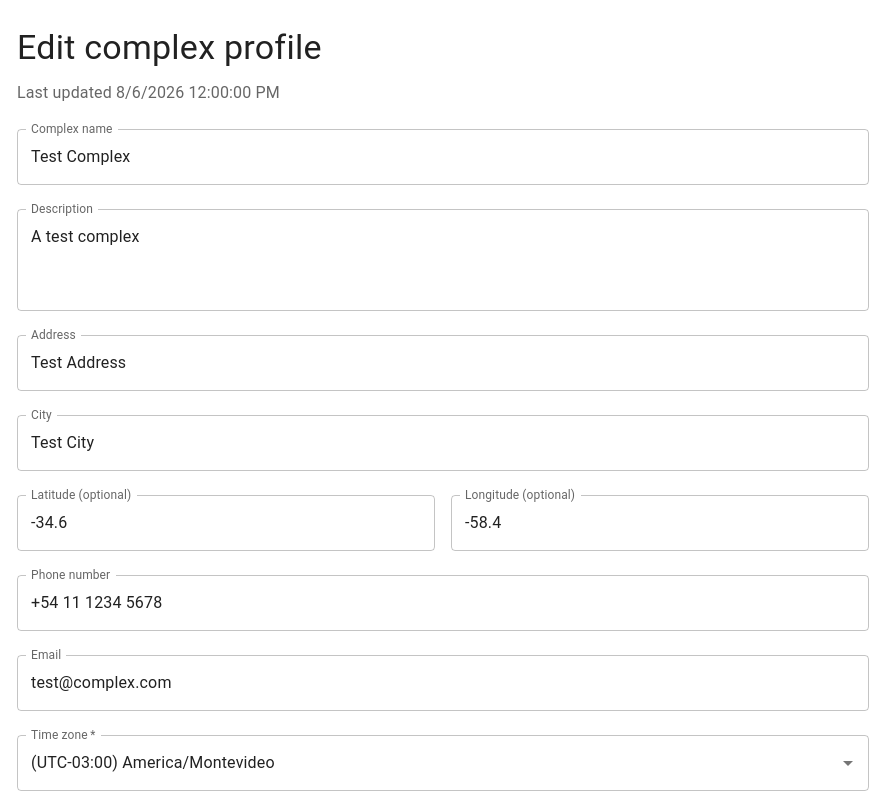
ComplexProfilePage › displays validation errors for invalid fields
Type "12345678" into the field showing "+54 11 1234 5678".
click(443, 603); type("12345678")  # box x1=17 y1=575 x2=869 y2=631
(page scrolled)
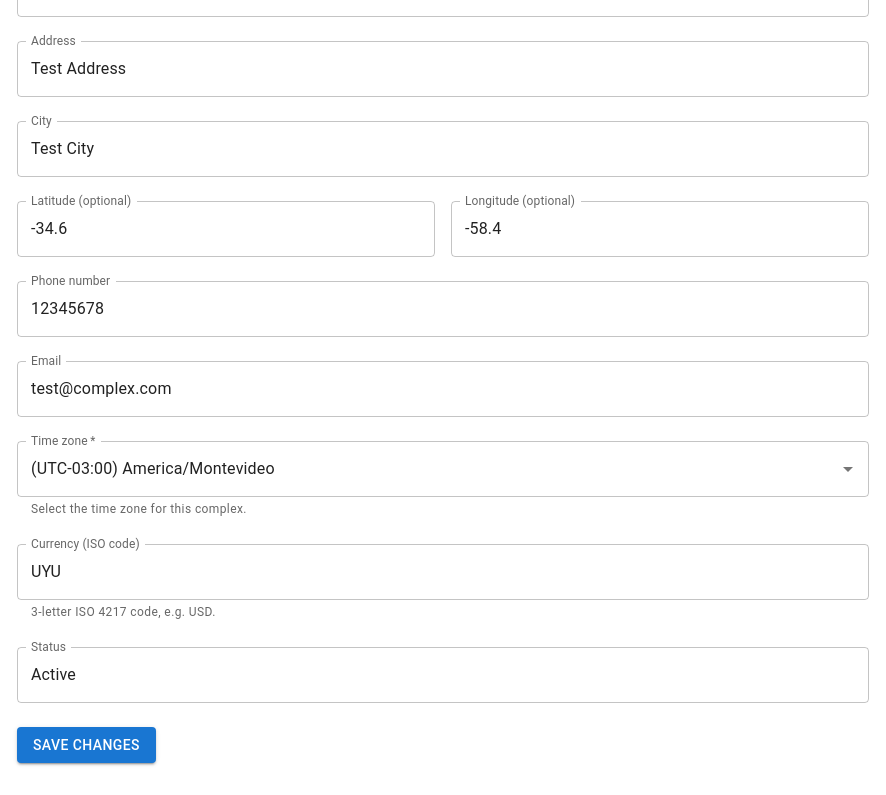
Click the button "Save changes".
click(86, 745)  # box x1=17 y1=727 x2=156 y2=763
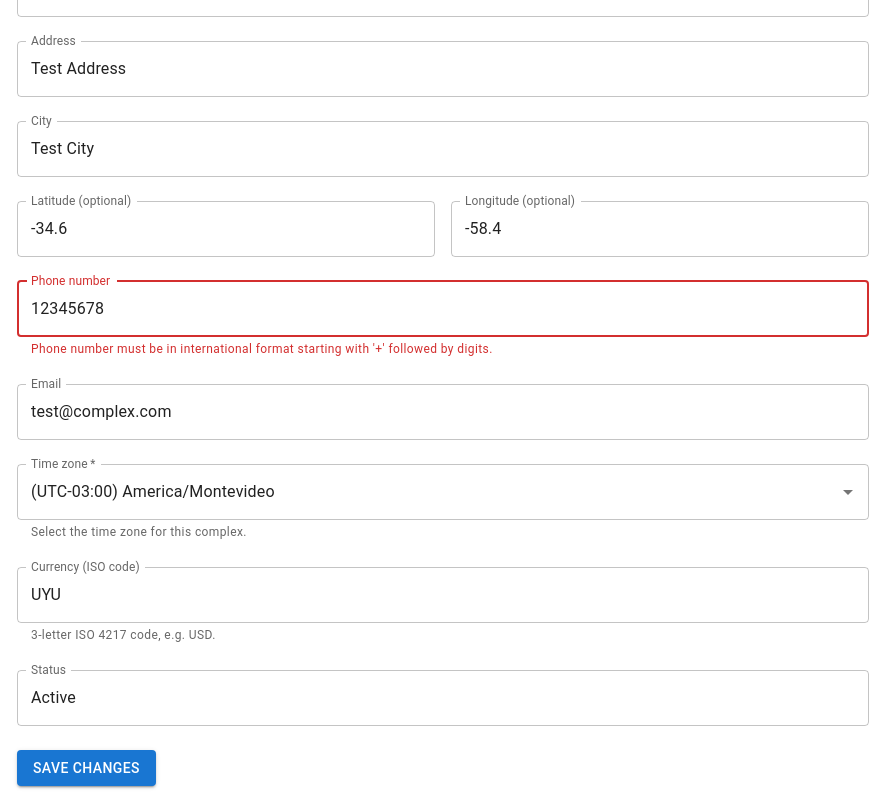
Check: the text "Phone number must be in international format" is shown, box x1=31 y1=342 x2=493 y2=356
